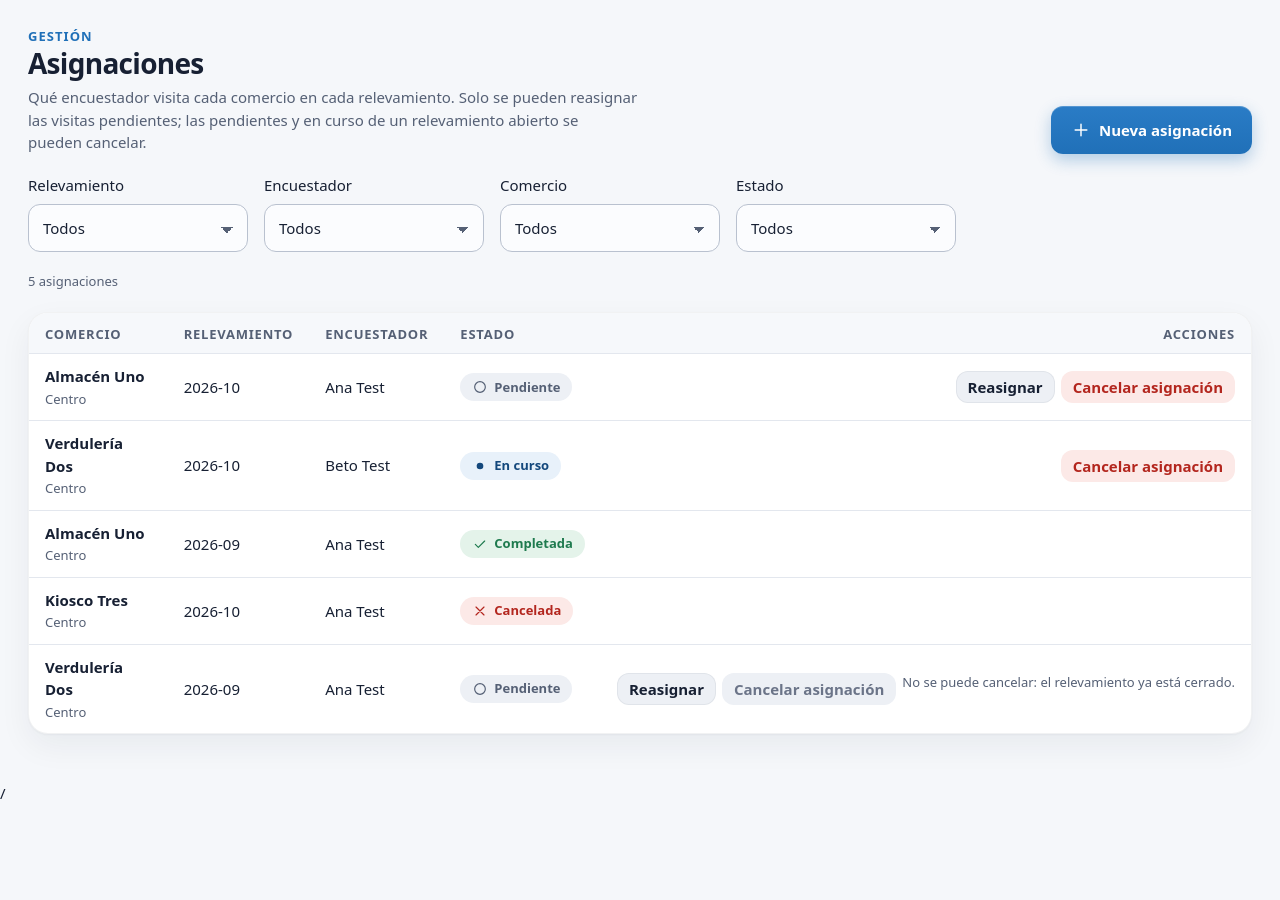
Test: cancel asignacion › warns that an EN_CURSO visit may already have prices
Click the button "Cancelar asignación" in the row of "Beto Test" at (1148, 466), box x1=1061 y1=450 x2=1235 y2=482
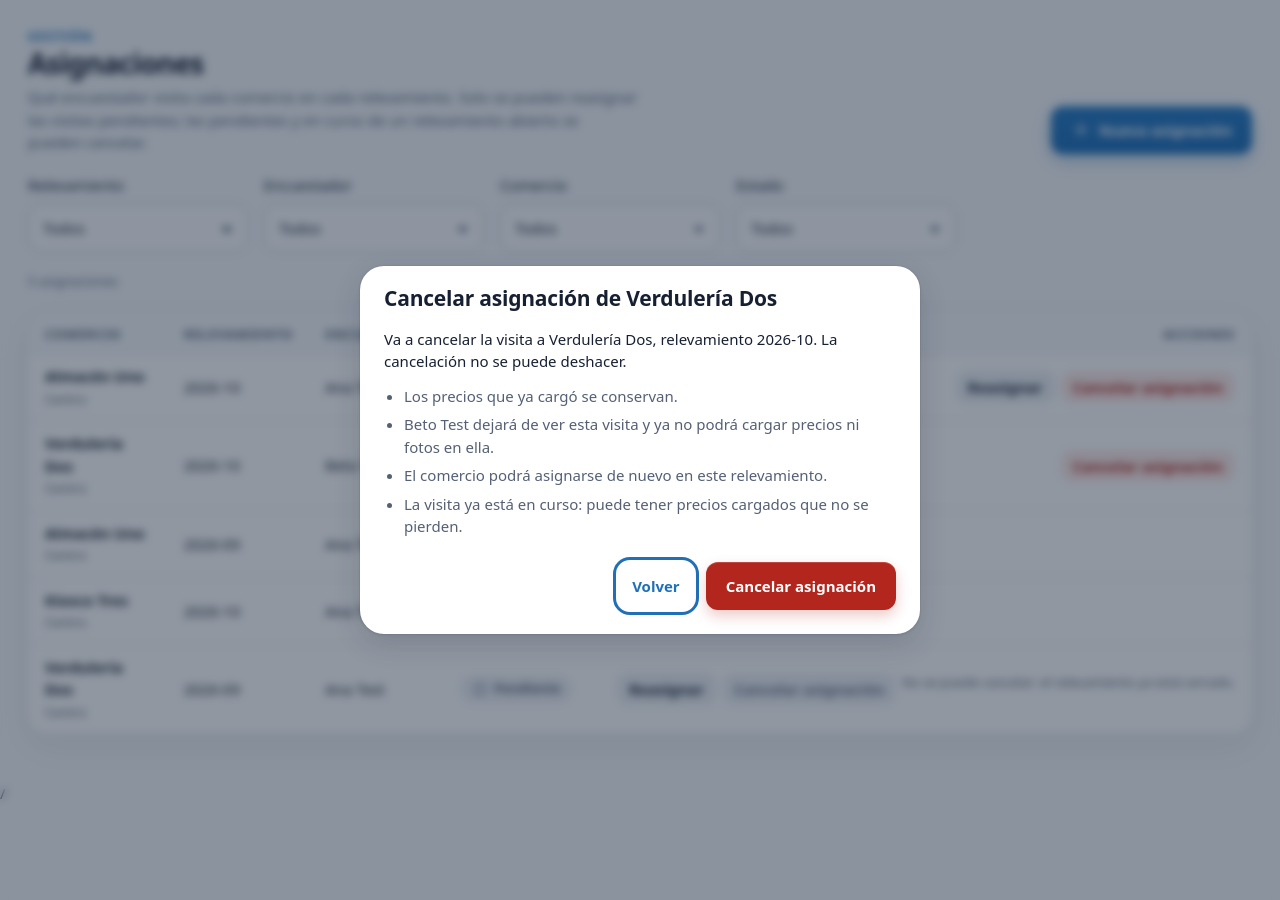
Check: the list item "ya está en curso" is shown, box x1=404 y1=494 x2=869 y2=536
